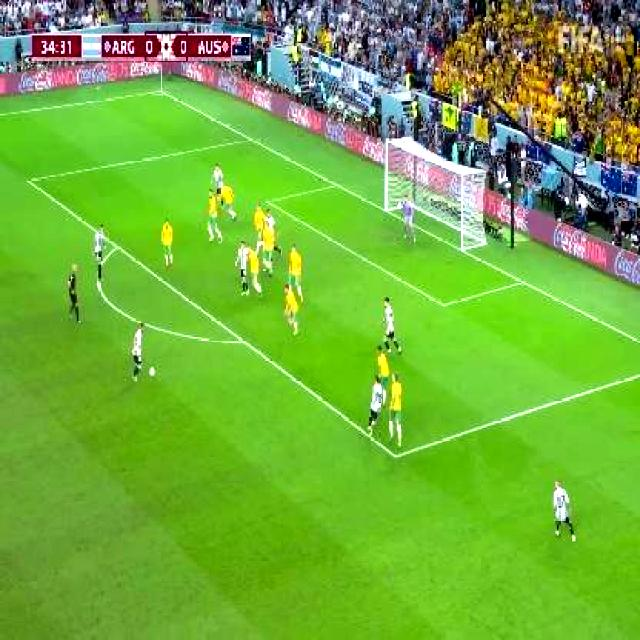bigarea_bottom_inner: (384, 442, 404, 468)
bigarea_top_inner: (18, 168, 37, 190)
bigarea_top_outter: (241, 129, 257, 148)
bottom_arc_area_intersection: (232, 328, 252, 354)
corner: (151, 83, 169, 97)
smallarea_bottom_inner: (432, 289, 452, 317)
smallarea_bottom_outter: (514, 271, 531, 291)
smallarea_top_inner: (258, 190, 276, 212)
smallarea_top_outter: (328, 174, 344, 195)
top_arc_area_intersection: (106, 234, 125, 258)
